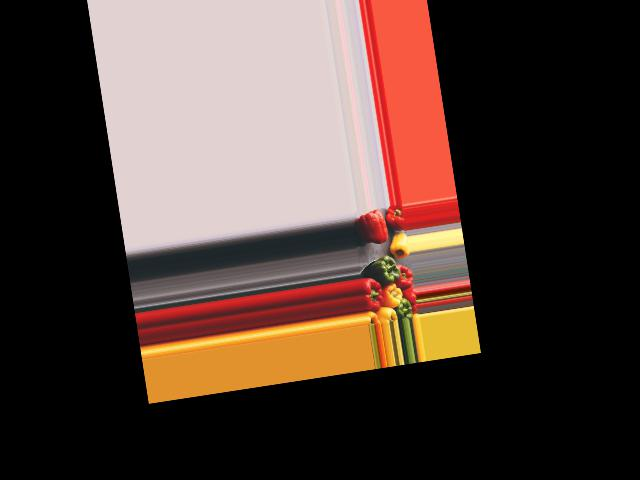bell_pepper: (384, 203, 404, 232)
